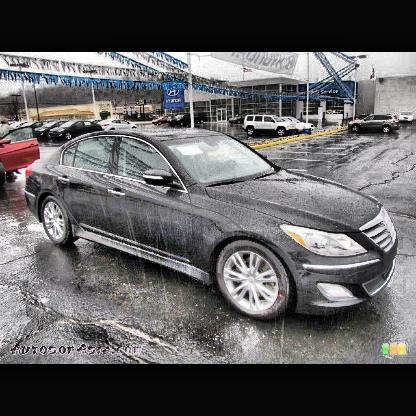Hyundai Genesis Sedan 2012: (26, 130, 397, 319)
